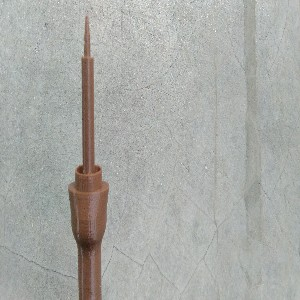solder: (67, 13, 110, 300)
